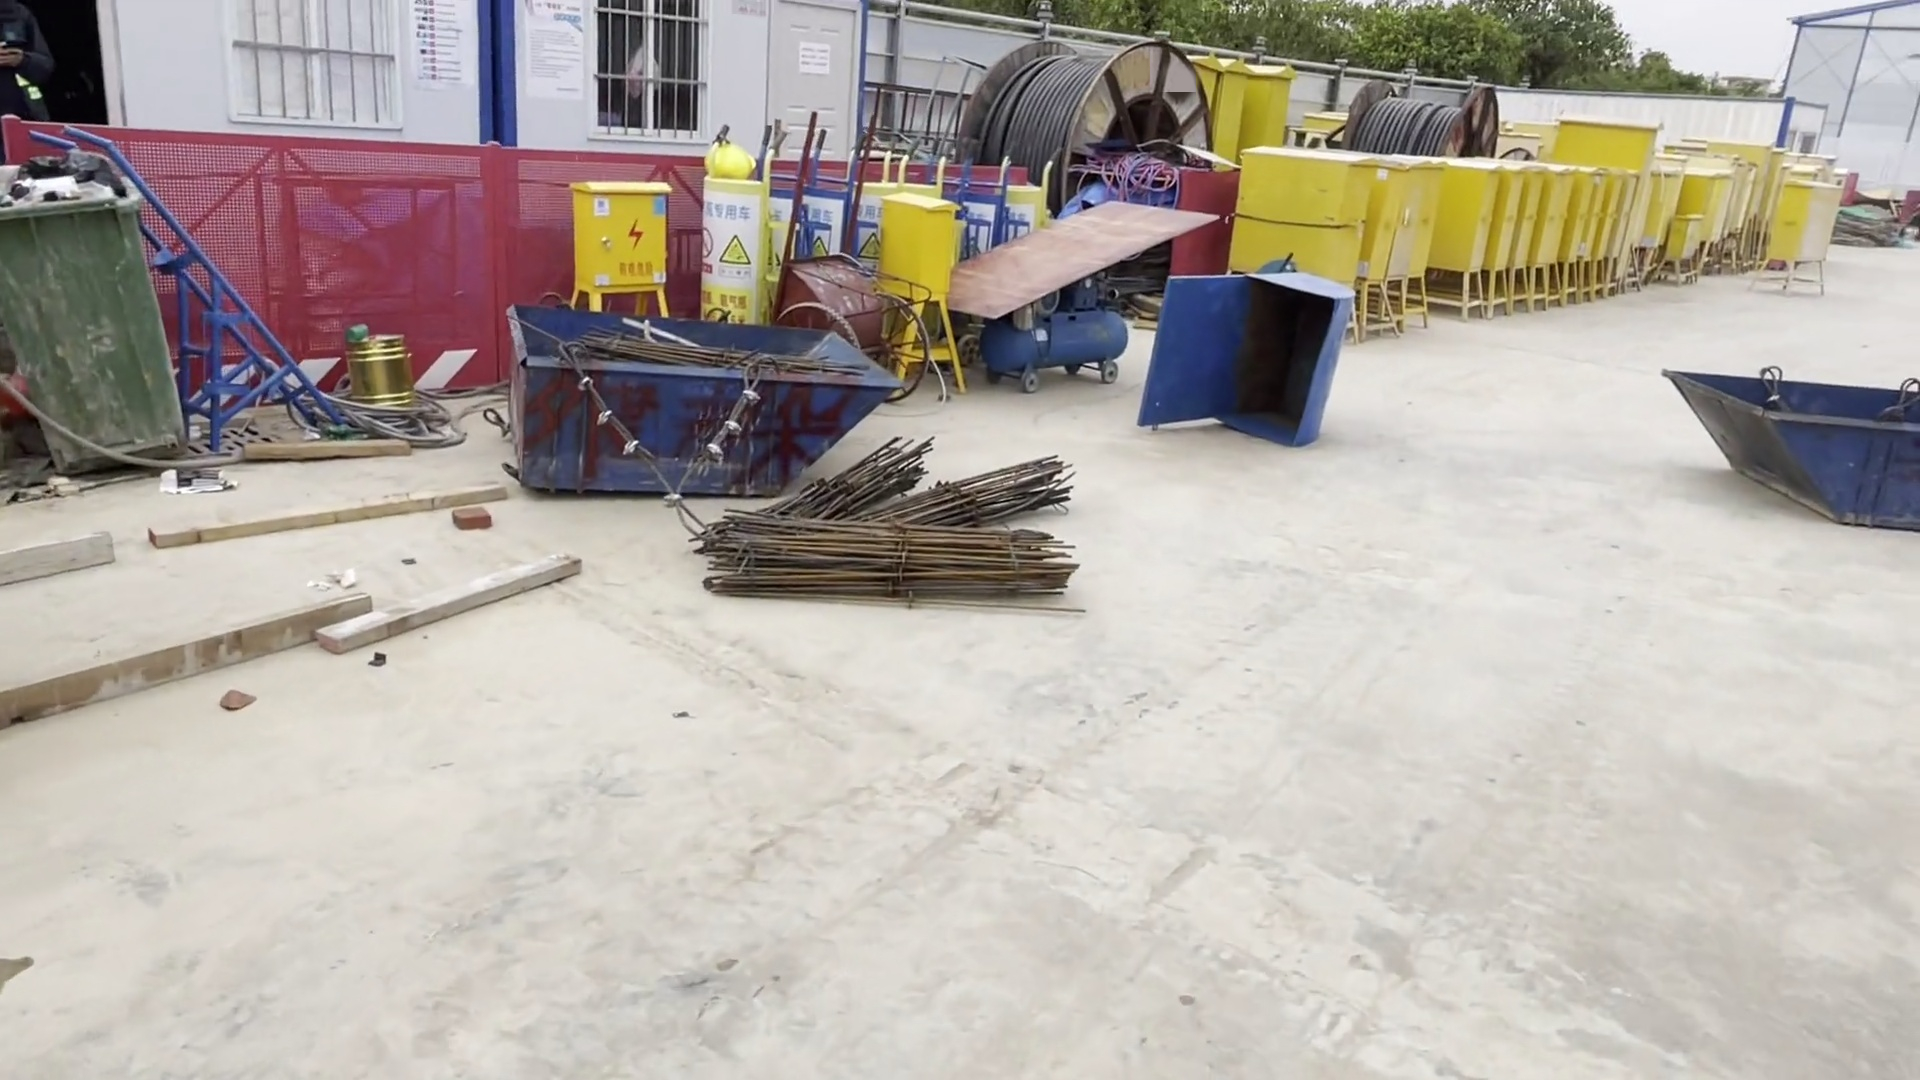ebox: (1237, 149, 1378, 280), (887, 186, 967, 394), (575, 174, 679, 313), (1394, 156, 1449, 331), (1749, 190, 1841, 294), (1448, 162, 1503, 328), (1545, 111, 1662, 169), (1360, 162, 1398, 334), (1487, 169, 1530, 319), (1530, 175, 1571, 315), (1509, 170, 1544, 316), (1244, 54, 1294, 148), (1213, 55, 1246, 167), (1662, 214, 1702, 287)
handcart: (781, 100, 928, 385)
hopper: (487, 328, 880, 505), (1675, 342, 1920, 545)
